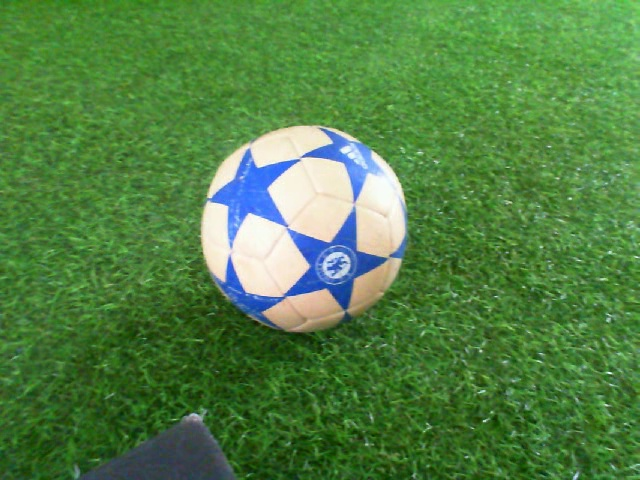ball: (198, 123, 410, 337)
